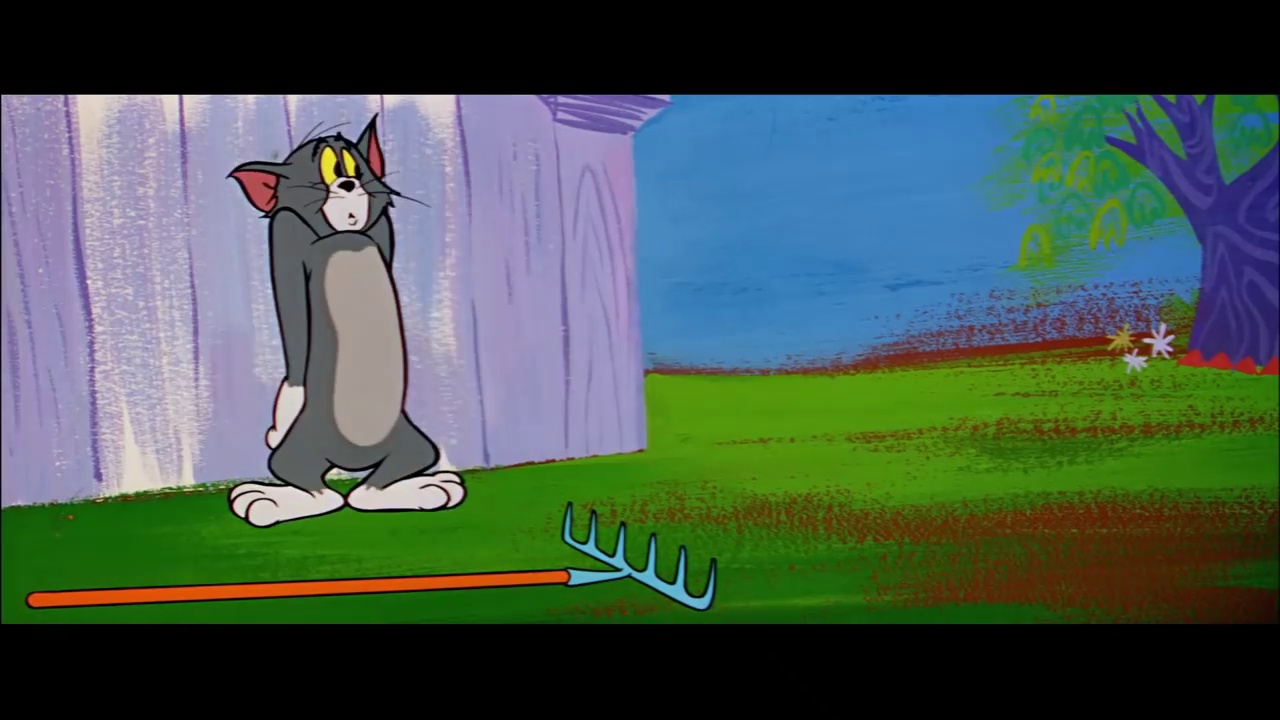tom: (225, 115, 411, 251)
